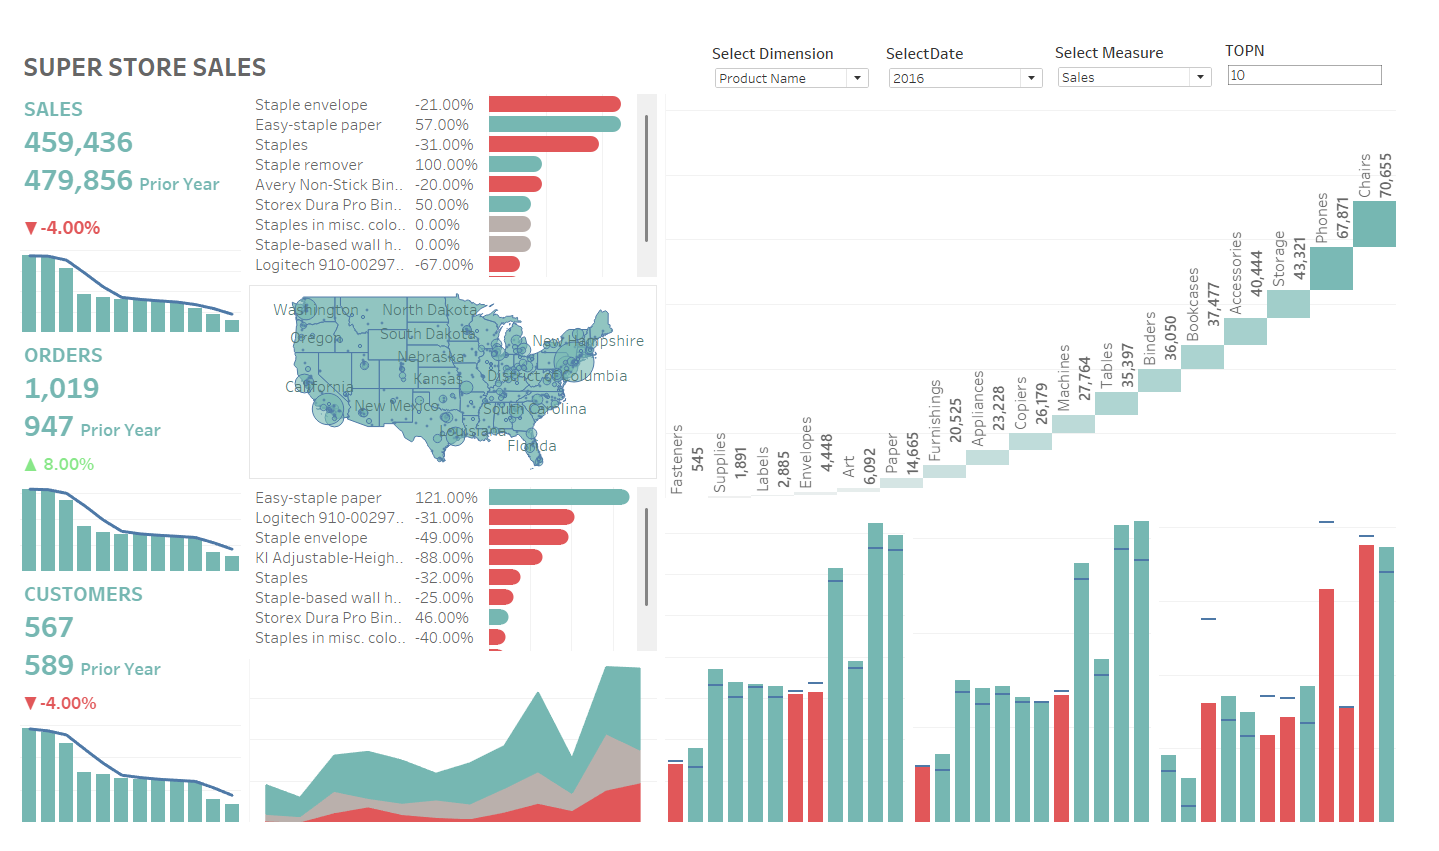

The dashboard page shown, as its layout file describes it:
{"tool":"tableau","page":{"name":"SalesDashboard","canvas":[1400,800],"ordinal":0},"visuals":[{"type":"parameter","param":"[Parameters].[Parameter 3]","box":[1217,6,160,48]},{"type":"text","box":[8,8,1384,48]},{"type":"parameter","param":"[Parameters].[Parameter 2]","box":[1047,8,160,48]},{"type":"parameter","param":"[Parameters].[Parameter 4]","box":[704,9,160,48]},{"type":"parameter","param":"[Parameters].[Parameter 1]","box":[878,9,160,48]},{"type":"worksheet","title":"KEYMETRICS1","mark":"Automatic","box":[8,56,229,120]},{"type":"worksheet","title":"TOPN","mark":"Bar","rows":["Calculation_1054968226055372800","PCTDIFF (copy)_956733458518482955"],"cols":["YTDSALES (copy)_956733458517254153","YTDSALES (copy)_956733458517254153"],"box":[237,56,416,191]},{"type":"worksheet","title":"WATERFALL_CHART","mark":"GanttBar","cols":["Sub-Category"],"box":[653,56,739,412]},{"type":"worksheet","title":"PCTCOLOR1","mark":"Automatic","box":[8,176,229,36]},{"type":"worksheet","title":"KPICOLUMN","mark":"Bar","rows":["Sales","Sales"],"cols":["Calculation_1000362080009433101"],"box":[8,212,229,90]},{"type":"worksheet","title":"MAP","mark":"Multipolygon","box":[237,247,416,202]},{"type":"worksheet","title":"KEYMETRICS2","mark":"Automatic","box":[8,302,229,111]},{"type":"worksheet","title":"PCTCOLOR2","mark":"Automatic","box":[8,413,229,32]},{"type":"worksheet","title":"KPICOLUMN (2)","mark":"Bar","rows":["Order ID","Order ID"],"cols":["Calculation_1000362080009433101"],"box":[8,445,229,96]},{"type":"worksheet","title":"TOPN (2)","mark":"Automatic","rows":["Calculation_1054968226055372800","Calculation_956733458514321414"],"cols":["Calculation_956733458513256450","Calculation_956733458513256450"],"box":[237,449,416,172]},{"type":"worksheet","title":"COLUMN_CUSTOMERS","mark":"GanttBar","rows":["YTDORDER (copy)_655555233499553792","YTD ORDERS SPLY  (copy)_655555233499680769"],"cols":["Order Date"],"box":[653,468,247.8,324]},{"type":"worksheet","title":"COLUMN_ORDERS","mark":"Bar","rows":["YTDSALES (copy)_956733458517254153","YTD Sales SPLY (copy)_956733458518306826"],"cols":["Order Date"],"box":[900.8,468,246.2,324]},{"type":"worksheet","title":"COLUMN_SALES","mark":"GanttBar","rows":["Calculation_956733458513256450","Calculation_956733458513817605"],"cols":["Order Date"],"box":[1147,468,245,324]},{"type":"worksheet","title":"KEYMETRICS3","mark":"Automatic","box":[8,541,229,111]},{"type":"worksheet","title":"Bump_Chart","mark":"Area","rows":["Calculation_1000362079997186048"],"cols":["Calculation_1000362080009433101"],"box":[237,621,416,171]},{"type":"worksheet","title":"PCTCOLOR3","mark":"Automatic","box":[8,652,229,32]},{"type":"worksheet","title":"KPICOLUMN (3)","mark":"Bar","rows":["Customer ID","Customer ID"],"cols":["Calculation_1000362080009433101"],"box":[8,684,229,108]}]}

Visuals, with their boxes on the page's 1400x800 design canvas (x1, y1, x2, y2). These are canvas units, not pixel positions in the 1439x851 screenshot, which may show the page scaled, cropped or inside an application window:
parameter: Rect(1217, 6, 1377, 54)
text: Rect(8, 8, 1392, 56)
parameter: Rect(1047, 8, 1207, 56)
parameter: Rect(704, 9, 864, 57)
parameter: Rect(878, 9, 1038, 57)
"KEYMETRICS1" worksheet: Rect(8, 56, 237, 176)
"TOPN" worksheet (Bar marks): Rect(237, 56, 653, 247)
"WATERFALL_CHART" worksheet (GanttBar marks): Rect(653, 56, 1392, 468)
"PCTCOLOR1" worksheet: Rect(8, 176, 237, 212)
"KPICOLUMN" worksheet (Bar marks): Rect(8, 212, 237, 302)
"MAP" worksheet (Multipolygon marks): Rect(237, 247, 653, 449)
"KEYMETRICS2" worksheet: Rect(8, 302, 237, 413)
"PCTCOLOR2" worksheet: Rect(8, 413, 237, 445)
"KPICOLUMN (2)" worksheet (Bar marks): Rect(8, 445, 237, 541)
"TOPN (2)" worksheet: Rect(237, 449, 653, 621)
"COLUMN_CUSTOMERS" worksheet (GanttBar marks): Rect(653, 468, 901, 792)
"COLUMN_ORDERS" worksheet (Bar marks): Rect(901, 468, 1147, 792)
"COLUMN_SALES" worksheet (GanttBar marks): Rect(1147, 468, 1392, 792)
"KEYMETRICS3" worksheet: Rect(8, 541, 237, 652)
"Bump_Chart" worksheet (Area marks): Rect(237, 621, 653, 792)
"PCTCOLOR3" worksheet: Rect(8, 652, 237, 684)
"KPICOLUMN (3)" worksheet (Bar marks): Rect(8, 684, 237, 792)
